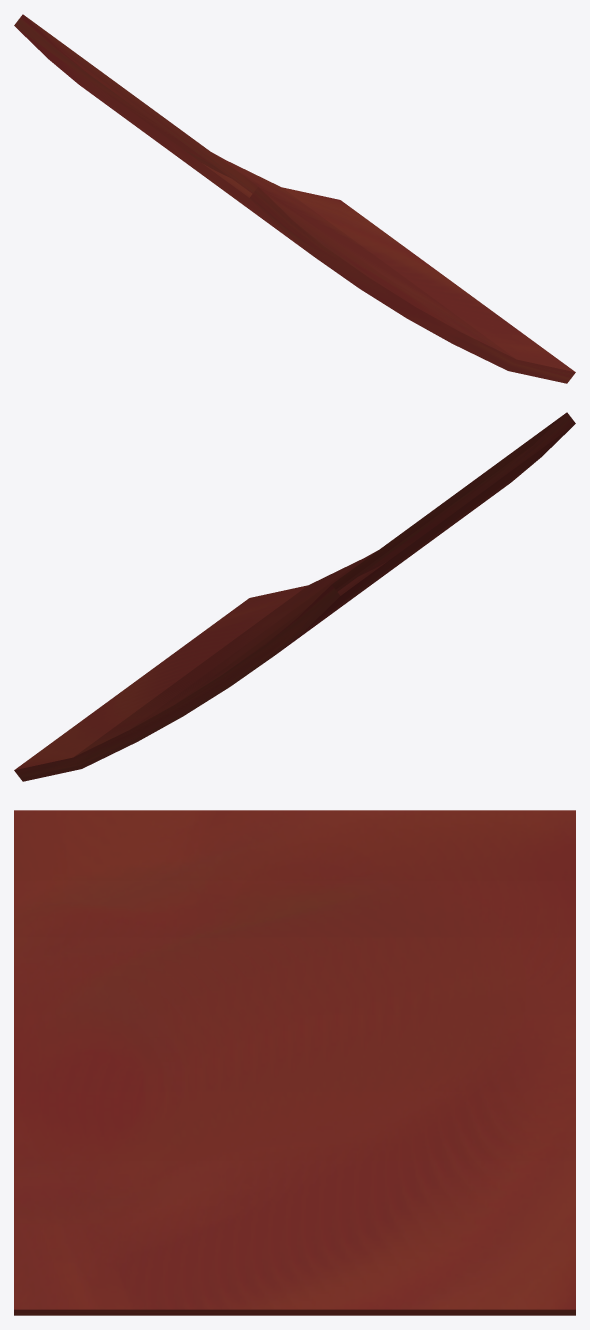
The model's file is House_Roof_Segment.fbx.
3 views of the same model, one above another, from view 1: azimuth 30°, elevation 25°; view 2: azimuth 150°, elevation 25°; view 3: azimuth 270°, elevation 25° (orthographic). The views are drawn at different scales.
Parts seen in each view (by area): view 1: Cube.001; view 2: Cube.001; view 3: Cube.001.
Part boxes in pixels (box(x1,y1,x2,y2)): Cube.001: box(14, 14, 575, 383); Cube.001: box(14, 412, 575, 781); Cube.001: box(14, 810, 575, 1315).
Size of the model in its own units: 7.81 by 9.75 by 6.23.
Materials: 1 (1 with a texture image).
